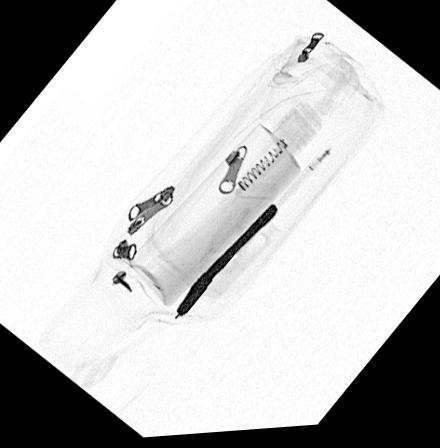Gun: (174, 207, 278, 319)
